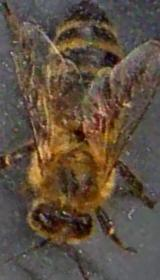varroa_mite: (84, 103, 116, 136)
